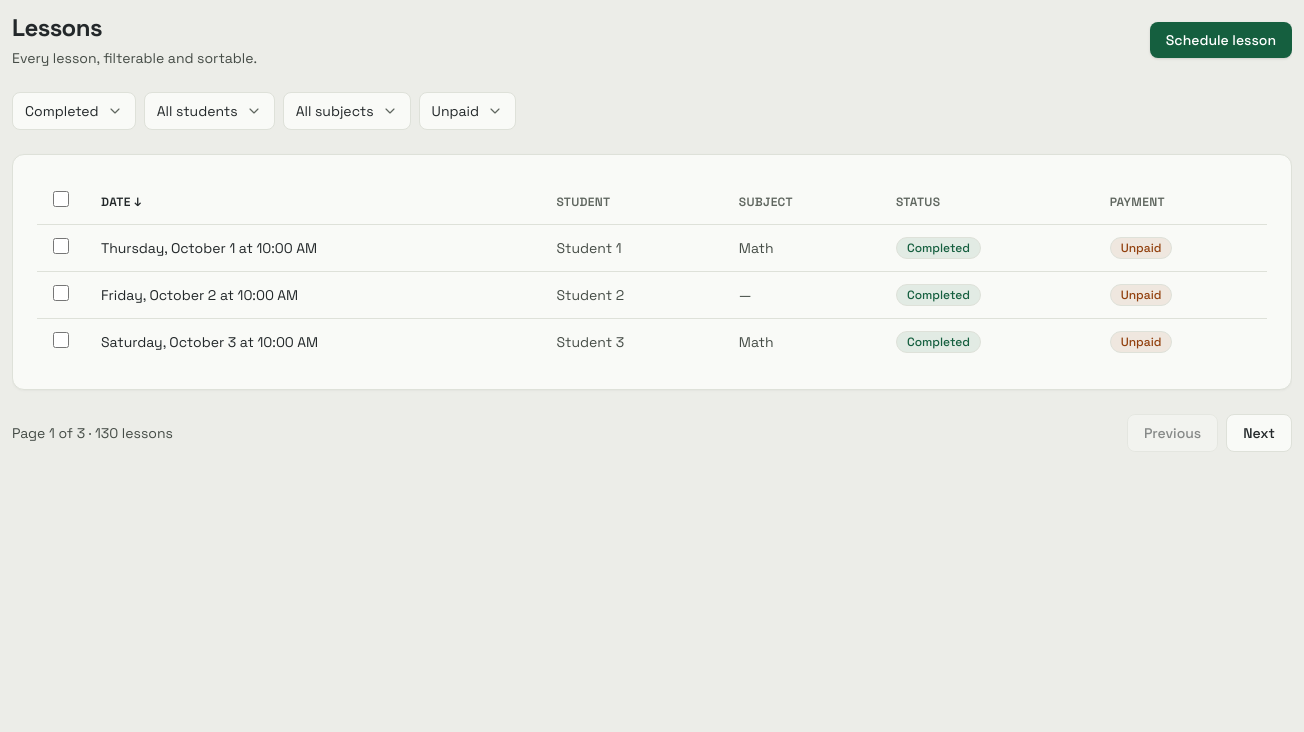
Test: LessonsListView select all matching › offers the banner once the whole page is selected and total exceeds it
This screenshot has width=1304, height=732.
Click the checkbox named "Select all visible lessons".
click(61, 199)  # box x1=53 y1=191 x2=69 y2=207
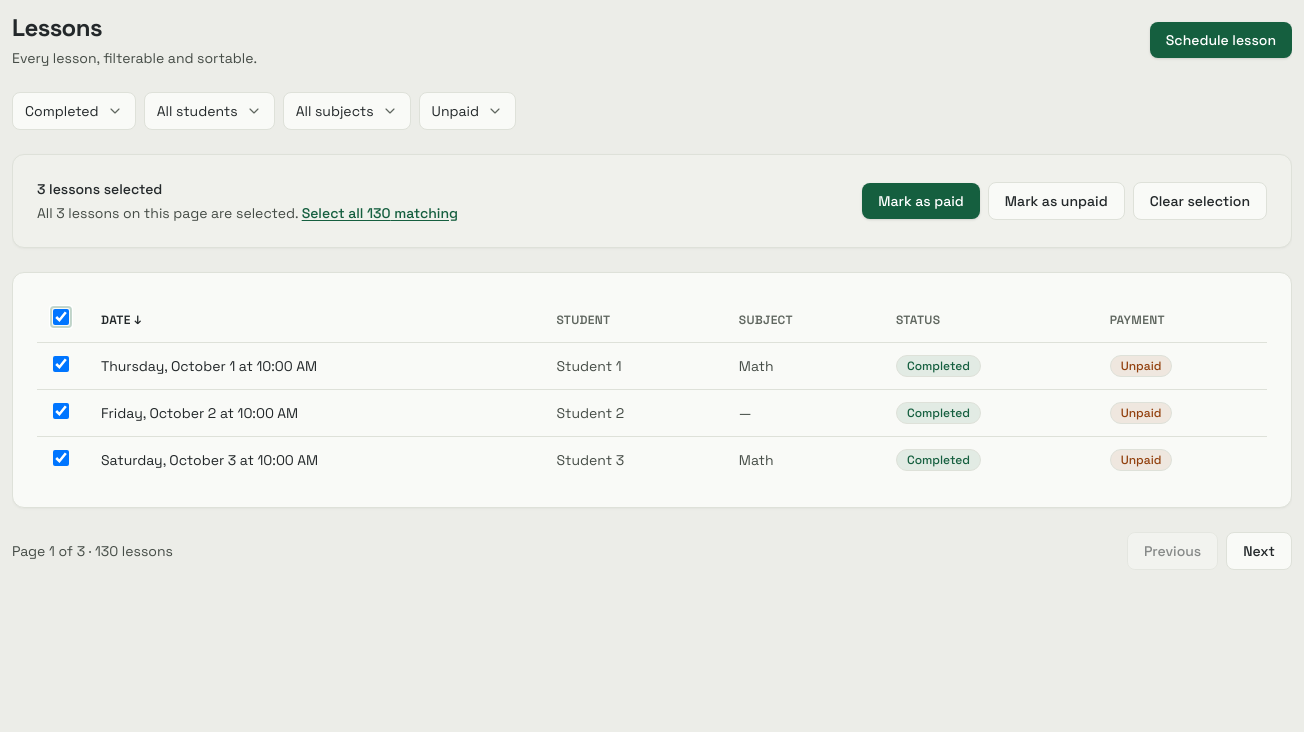
Expected: the text "All 3 lessons on this page are selected." is shown, x1=37 y1=203 x2=458 y2=223
Expected: the button "Select all 130 matching" is shown, x1=302 y1=203 x2=458 y2=223
